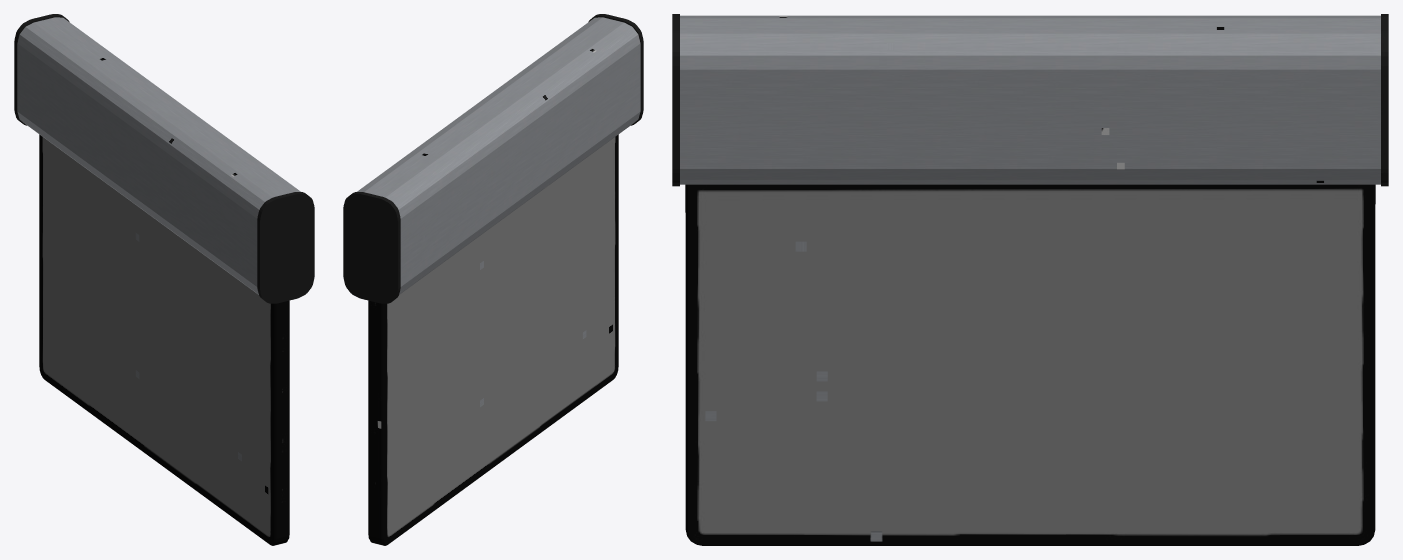
Rendered from Exit Sign.fbx.
The picture shows the model from 3 angles, left to right: view 1: azimuth 30°, elevation 25°; view 2: azimuth 150°, elevation 25°; view 3: azimuth 270°, elevation 25°; orthographic projection. The views are drawn at different scales.
Visible parts, largest first — view 1: Glass_lambert1_0, Holder_lambert1_0; view 2: Glass_lambert1_0, Holder_lambert1_0; view 3: Glass_lambert1_0, Holder_lambert1_0.
Boxes of the visible parts, x1=… form: Glass_lambert1_0: x1=39, y1=134, x2=289, y2=545; Holder_lambert1_0: x1=14, y1=14, x2=314, y2=303; Glass_lambert1_0: x1=368, y1=134, x2=618, y2=545; Holder_lambert1_0: x1=343, y1=14, x2=643, y2=303; Glass_lambert1_0: x1=685, y1=184, x2=1375, y2=545; Holder_lambert1_0: x1=672, y1=14, x2=1388, y2=186.
Bounding box in the file's own units: 6.77 × 42.04 × 52.75.
2 materials, 1 textured.
